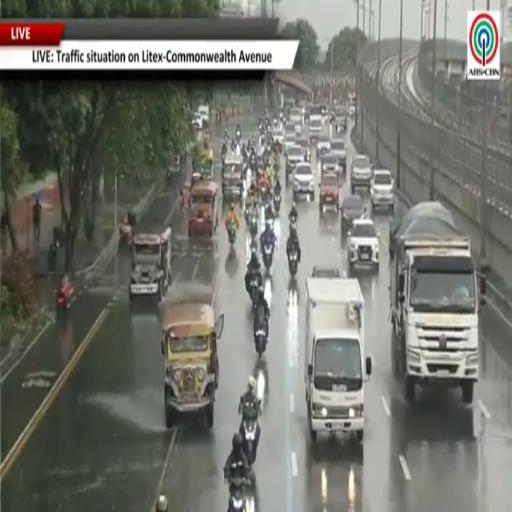car: (348, 219, 378, 269), (340, 195, 365, 234), (371, 169, 393, 210), (293, 163, 314, 202), (351, 155, 372, 193), (286, 144, 304, 177), (330, 139, 346, 171), (321, 153, 339, 174), (309, 114, 323, 140), (312, 266, 341, 278), (289, 107, 302, 132), (335, 106, 347, 133), (296, 138, 310, 161), (316, 135, 330, 155), (284, 133, 296, 154), (198, 105, 209, 127), (273, 127, 284, 145), (192, 112, 203, 130), (284, 123, 296, 138)
jeepney: (161, 300, 223, 428), (129, 228, 171, 301), (188, 182, 218, 237), (222, 154, 243, 200), (196, 160, 213, 181)
motorcycle: (56, 276, 73, 315), (228, 478, 248, 511), (243, 420, 257, 465), (255, 316, 267, 358), (249, 275, 261, 309), (263, 244, 273, 270), (249, 212, 258, 239), (288, 251, 297, 277), (228, 222, 236, 249), (274, 195, 281, 213), (250, 237, 257, 251), (289, 218, 296, 231), (236, 130, 241, 142), (259, 122, 264, 133), (274, 118, 278, 127)
truck: (389, 202, 486, 404), (305, 278, 371, 442)
